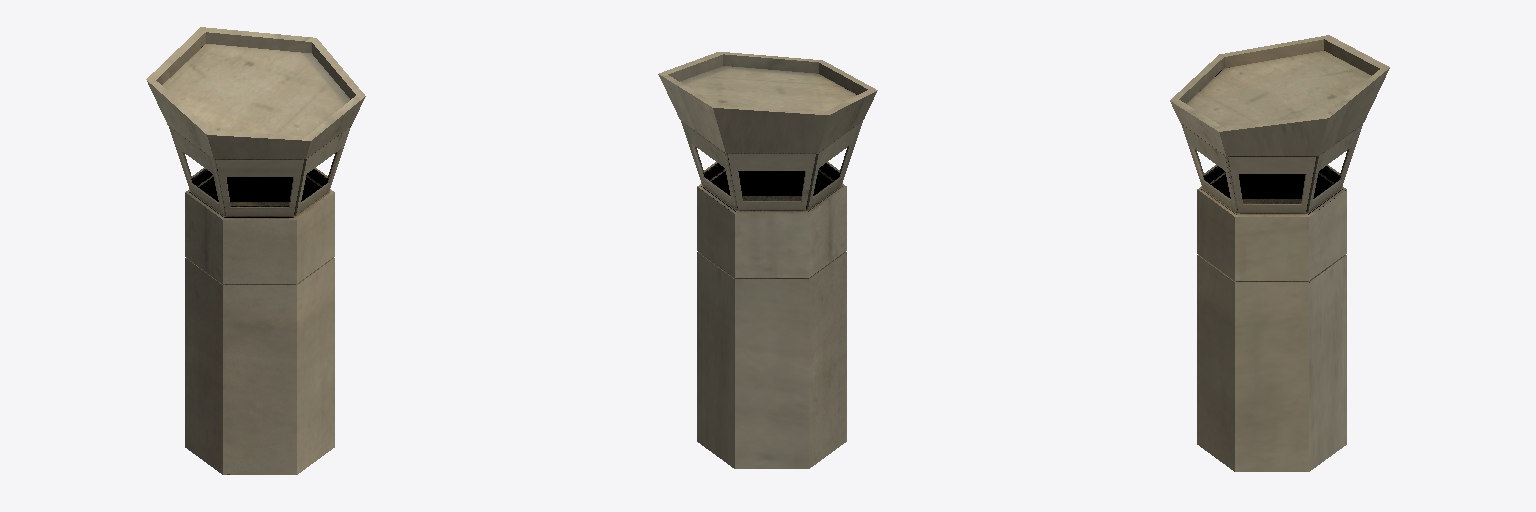
3 views of the same model, side by side, from view 1: azimuth 30°, elevation 25°; view 2: azimuth 150°, elevation 25°; view 3: azimuth 270°, elevation 25° (orthographic).
Visible parts, largest first — view 1: Tower2_Cylinder.148; view 2: Tower2_Cylinder.148; view 3: Tower2_Cylinder.148.
Boxes of the visible parts, x1,y1,x2,y2 form: Tower2_Cylinder.148: [146, 27, 365, 474]; Tower2_Cylinder.148: [658, 52, 877, 468]; Tower2_Cylinder.148: [1170, 35, 1389, 471].
Size of the model in its own units: 8.38 by 17.69 by 9.38.
1 materials, 1 textured.